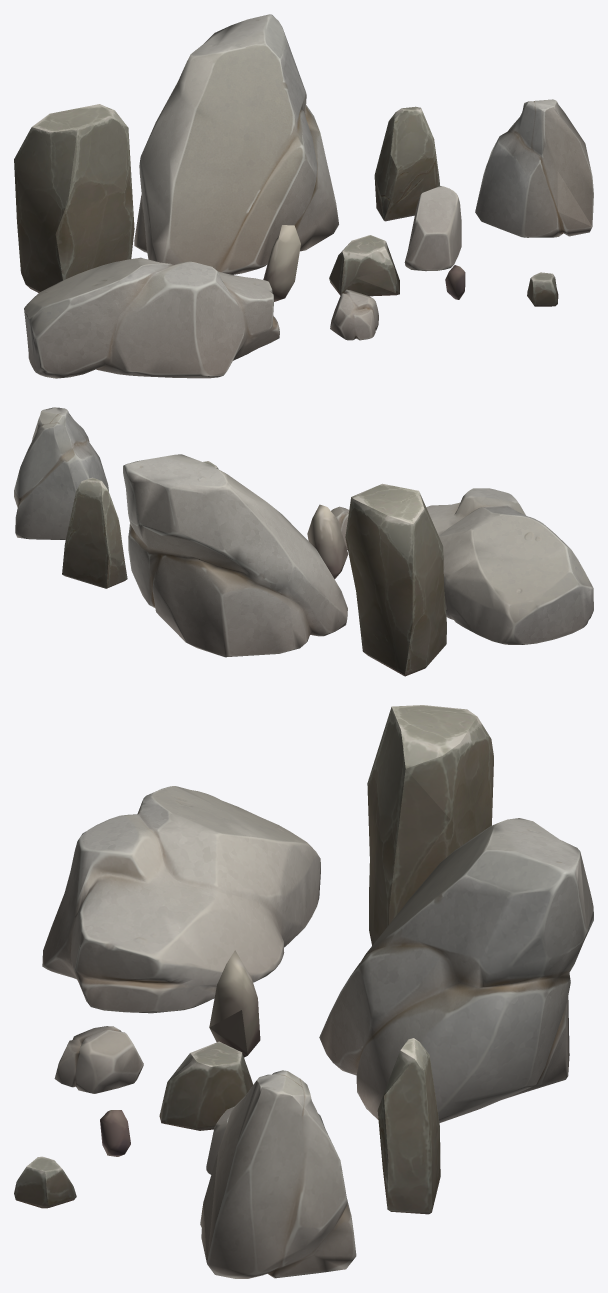
Rendered from 卡通石头.fbx.
The picture shows the model from 3 angles, top to bottom: view 1: azimuth 30°, elevation 25°; view 2: azimuth 150°, elevation 25°; view 3: azimuth 270°, elevation 25°; orthographic projection. The views are drawn at different scales.
Parts seen in each view (by area): view 1: SM_Rocks_04, SM_Rocks_03, SM_Rocks_09, SM_Rocks_05, SM_Rocks_08, SM_Rocks_02, SM_Rocks_07, SM_Rocks_01, SM_Rocks_11, SM_Rocks_06, SM_Rocks_10; view 2: SM_Rocks_04, SM_Rocks_03, SM_Rocks_09, SM_Rocks_05, SM_Rocks_08, SM_Rocks_11; view 3: SM_Rocks_04, SM_Rocks_03, SM_Rocks_05, SM_Rocks_09, SM_Rocks_08, SM_Rocks_07, SM_Rocks_01, SM_Rocks_11, SM_Rocks_06, SM_Rocks_10.
Boxes of the visible parts, box(x1,y1,x2,y2) form: SM_Rocks_04: box(134, 14, 338, 274); SM_Rocks_03: box(24, 257, 279, 378); SM_Rocks_09: box(14, 104, 134, 292); SM_Rocks_05: box(475, 99, 593, 237); SM_Rocks_08: box(374, 106, 439, 221); SM_Rocks_02: box(404, 186, 461, 271); SM_Rocks_07: box(329, 235, 399, 296); SM_Rocks_01: box(330, 289, 378, 340); SM_Rocks_11: box(263, 225, 300, 301); SM_Rocks_06: box(527, 272, 558, 306); SM_Rocks_10: box(445, 265, 465, 299); SM_Rocks_04: box(123, 454, 347, 657); SM_Rocks_03: box(426, 488, 593, 644); SM_Rocks_09: box(345, 483, 446, 676); SM_Rocks_05: box(14, 407, 108, 539); SM_Rocks_08: box(62, 477, 127, 588); SM_Rocks_11: box(307, 504, 348, 578); SM_Rocks_04: box(319, 818, 593, 1122); SM_Rocks_03: box(42, 786, 320, 1013); SM_Rocks_05: box(200, 1070, 356, 1278); SM_Rocks_09: box(367, 705, 493, 945); SM_Rocks_08: box(377, 1038, 440, 1214); SM_Rocks_07: box(159, 1041, 253, 1130); SM_Rocks_01: box(54, 1026, 143, 1093); SM_Rocks_11: box(209, 950, 260, 1057); SM_Rocks_06: box(14, 1156, 76, 1208); SM_Rocks_10: box(100, 1110, 130, 1156).
Bounding box in the file's own units: 559 × 170 × 335.
